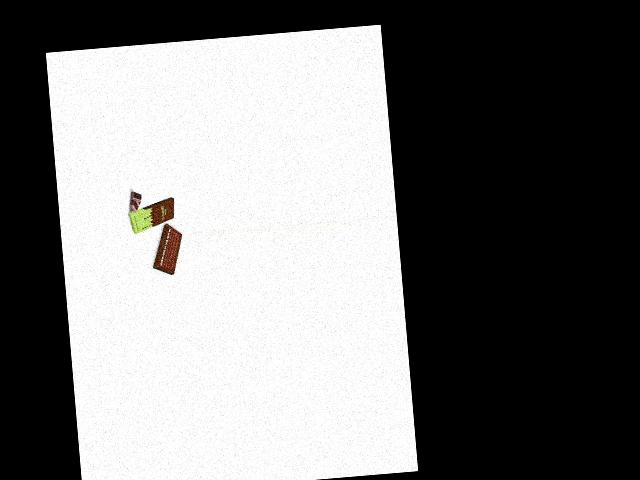chocolate: (126, 200, 177, 232)
